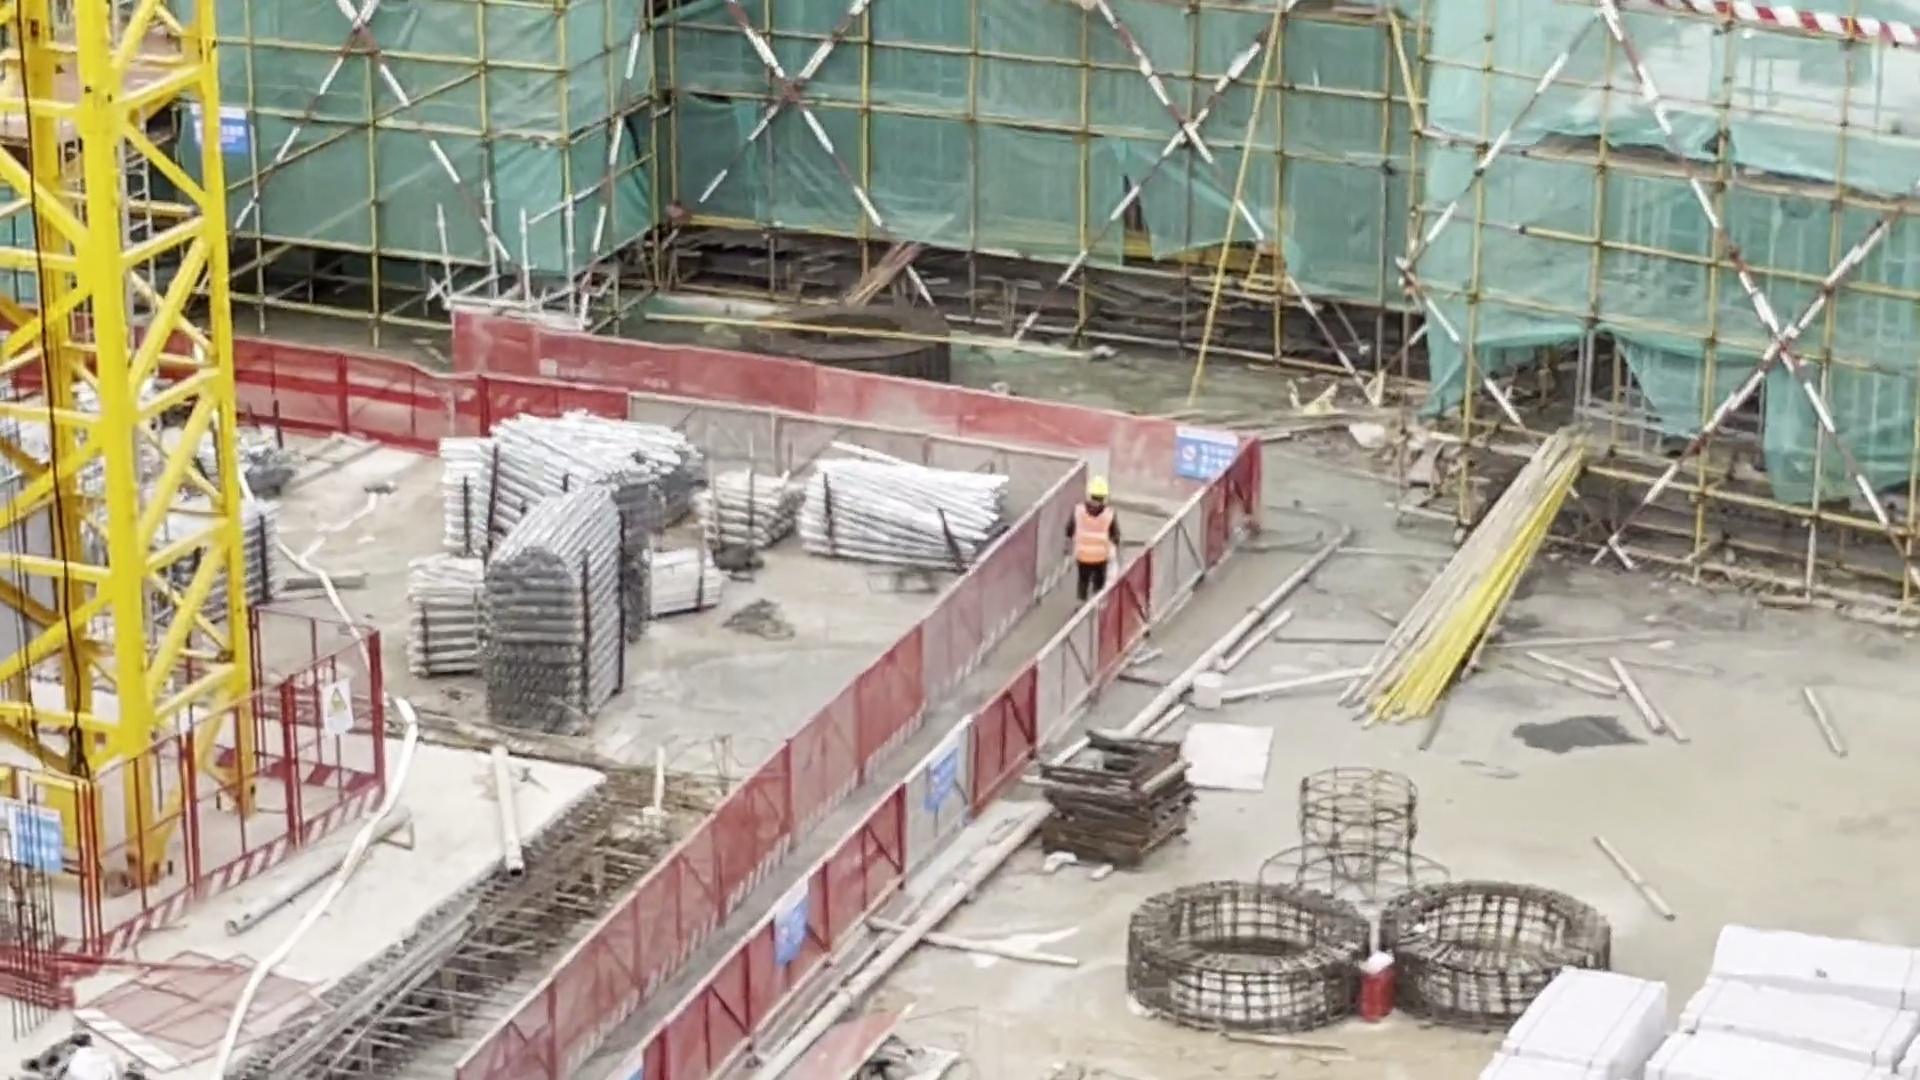fence: (664, 604, 1001, 1080), (491, 351, 1238, 505)
helmet: (1083, 473, 1114, 501)
person: (1056, 465, 1136, 619)
scaffold: (473, 489, 635, 732), (446, 410, 695, 550), (794, 447, 1013, 564), (683, 453, 809, 567)
vest: (1075, 504, 1114, 565)
